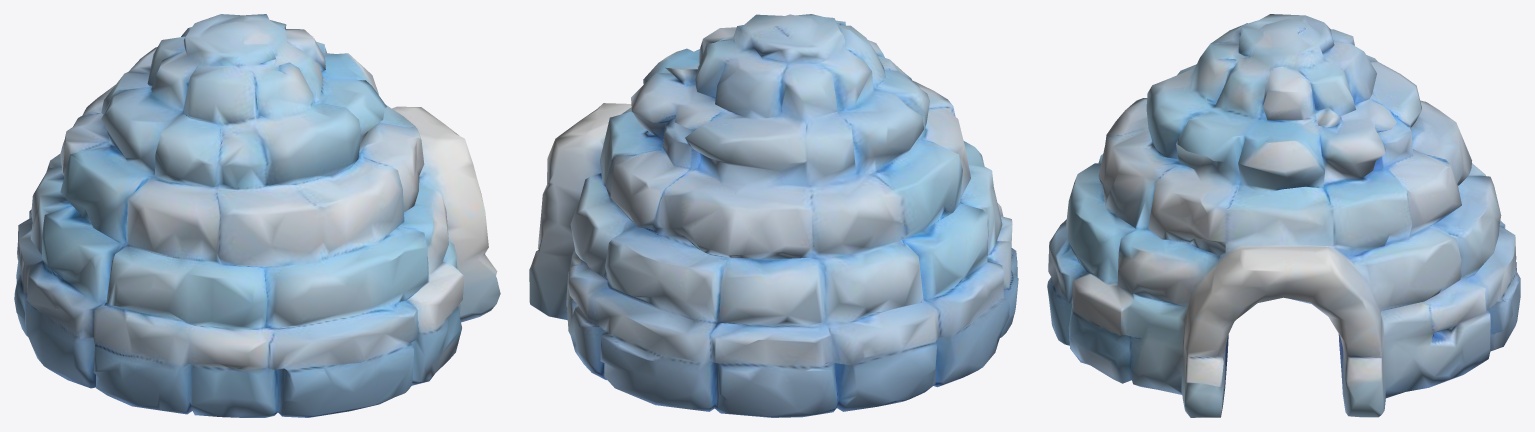
Rendered from igloo.glb.
The picture shows the model from 3 angles, left to right: view 1: azimuth 30°, elevation 25°; view 2: azimuth 150°, elevation 25°; view 3: azimuth 270°, elevation 25°; orthographic projection. The views are drawn at different scales.
Parts seen in each view (by area): view 1: tripo_node_78316386-a3c1-463f-8607-a4c64c9f70f3; view 2: tripo_node_78316386-a3c1-463f-8607-a4c64c9f70f3; view 3: tripo_node_78316386-a3c1-463f-8607-a4c64c9f70f3.
Part boxes in pixels (x1,y1,x2,y2): tripo_node_78316386-a3c1-463f-8607-a4c64c9f70f3: (14, 14, 500, 417); tripo_node_78316386-a3c1-463f-8607-a4c64c9f70f3: (529, 14, 1018, 417); tripo_node_78316386-a3c1-463f-8607-a4c64c9f70f3: (1047, 14, 1520, 417).
Bounding box in the file's own units: 0.9703 × 0.6905 × 1.
1 material, 1 textured.
